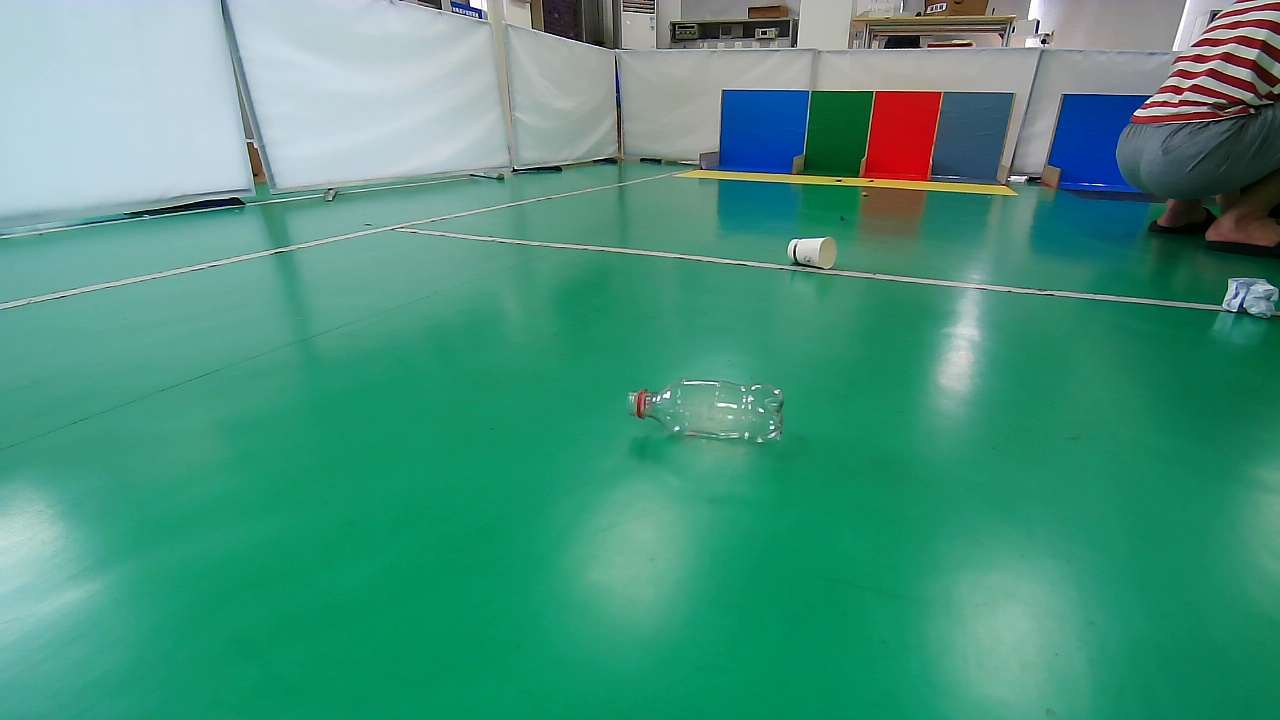battery: (833, 210, 852, 225)
bottle: (620, 377, 790, 449)
orangepeel: (855, 188, 874, 200)
papercup: (785, 236, 840, 270)
spitball: (1219, 274, 1280, 320)
